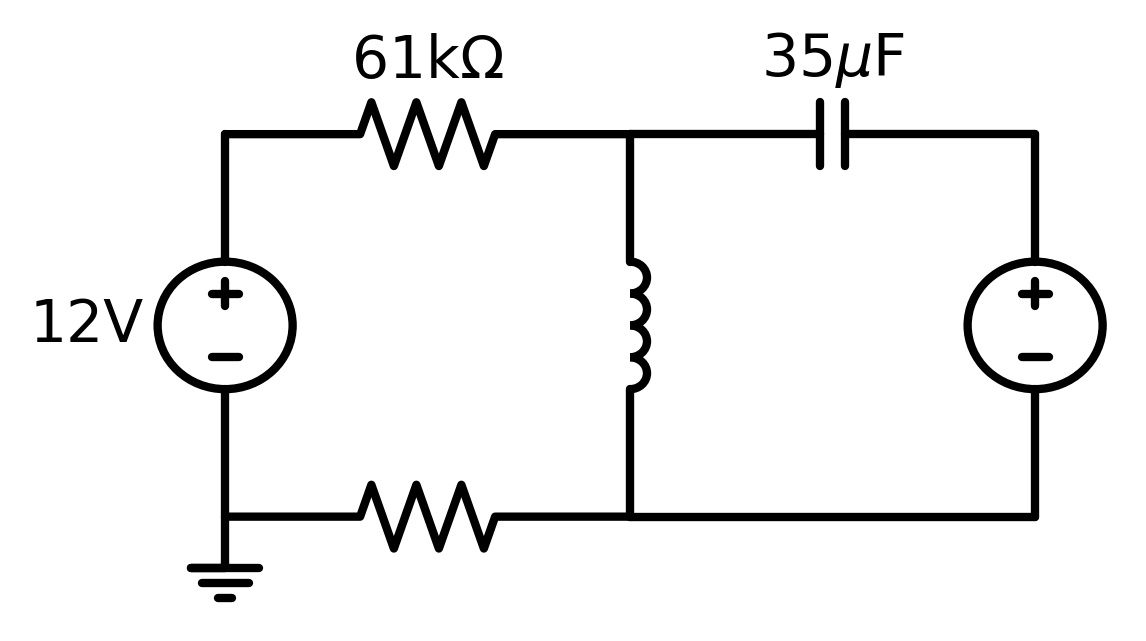ground: (180, 554, 273, 607)
inductor: (603, 247, 667, 405)
resistor: (338, 93, 515, 186), (357, 473, 503, 560)
sourcedc: (148, 251, 303, 400), (957, 254, 1113, 401), (800, 90, 870, 183)
